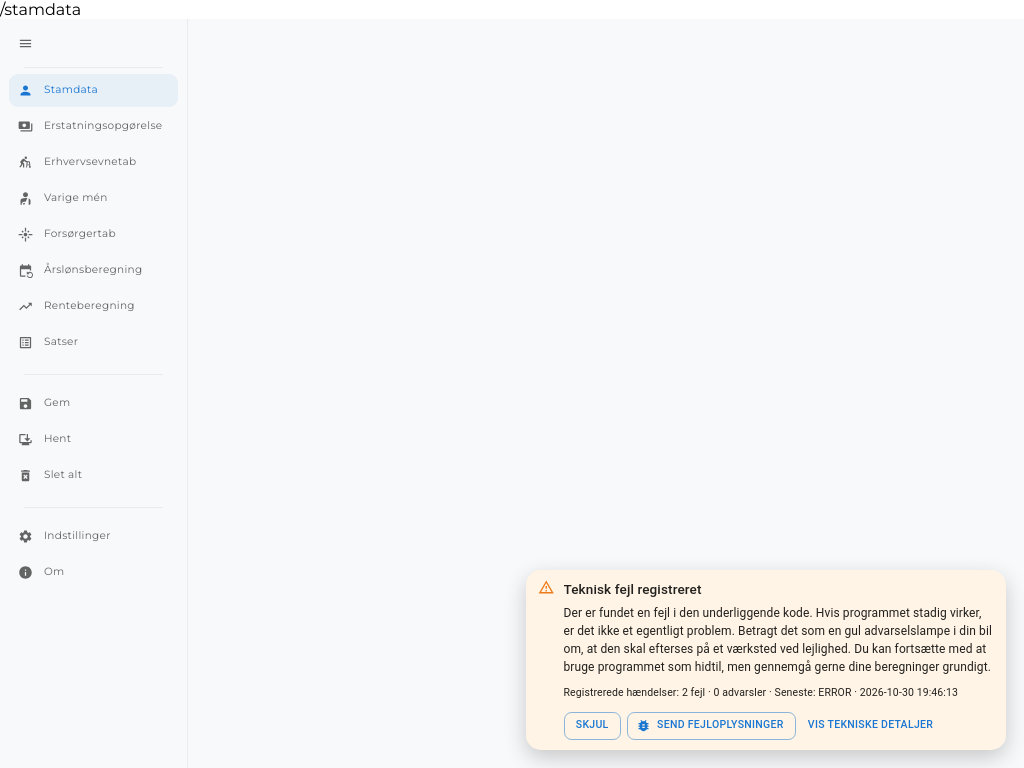
Test case: MainLayout – Slet alt-bekræftelse › rydder sagen og navigerer til Stamdata, når brugeren bekræfter
Click the button "Slet alt". click: point(93, 476)
box: [9, 459, 178, 492]
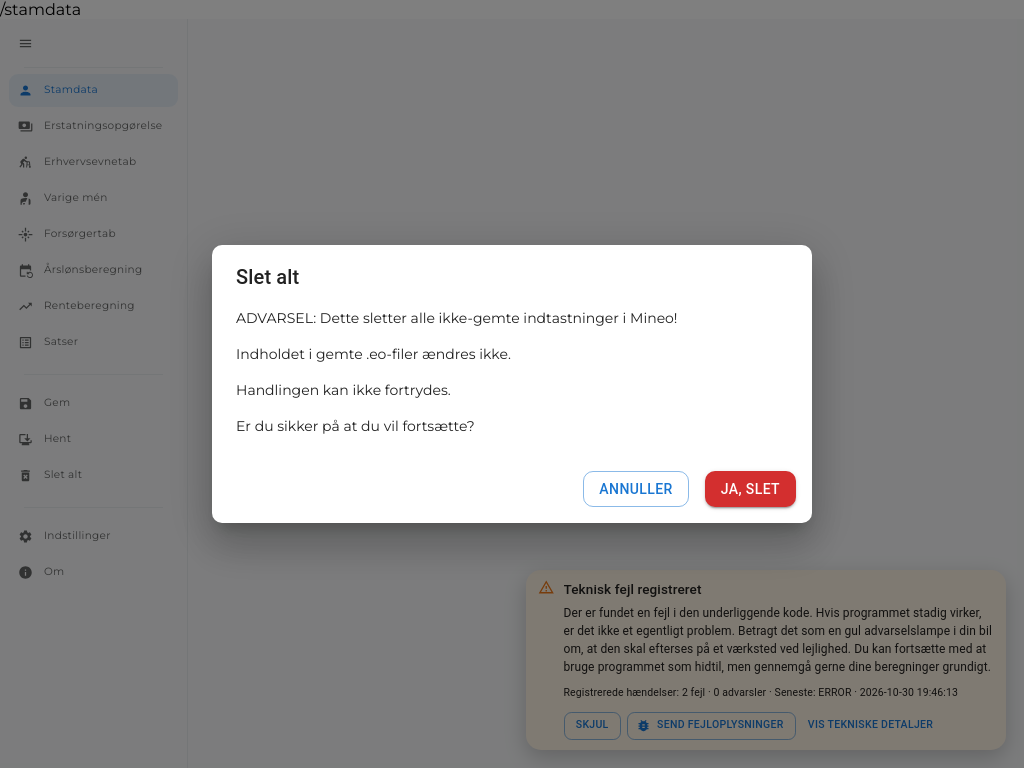
expect the dialog is shown: met, box [212, 245, 812, 523]
Click the button "Ja, slet". click: point(750, 489)
box: [705, 471, 796, 507]
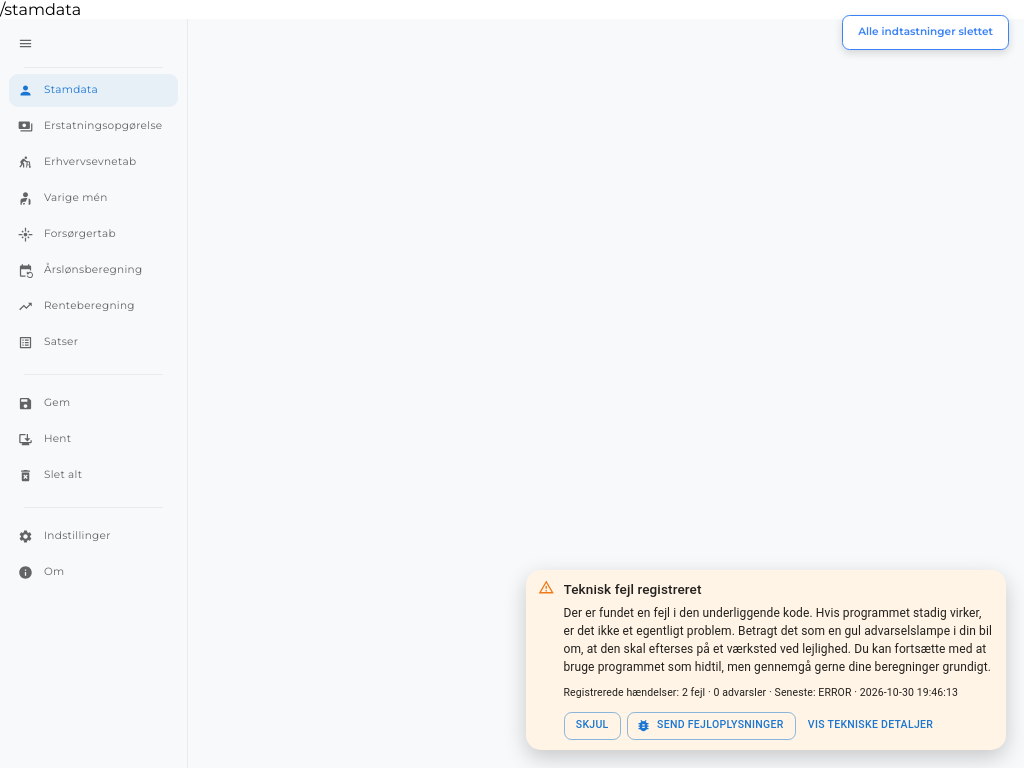
expect the text with test id "pathname" reads "/stamdata": met, box [0, 0, 81, 19]
expect the dialog is gone: met
expect the text "Alle indtastninger slettet" is shown: met, box [858, 25, 993, 40]
